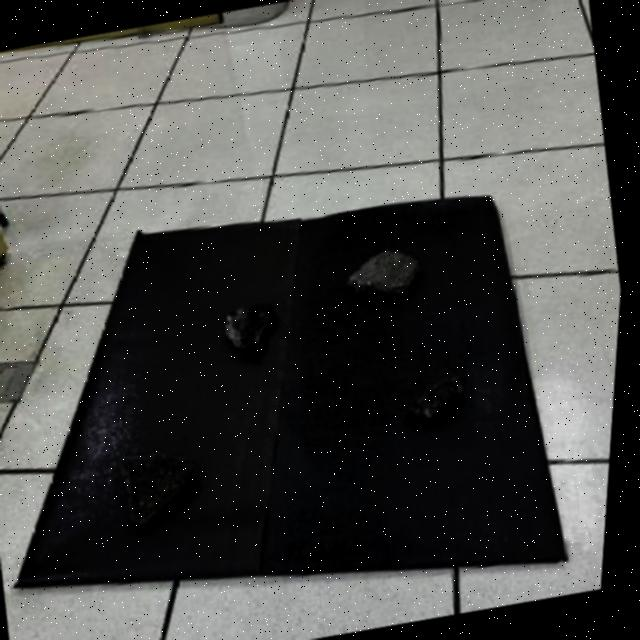Road Debris: (123, 446, 212, 528), (346, 243, 432, 297), (227, 297, 290, 348), (408, 376, 477, 418)
